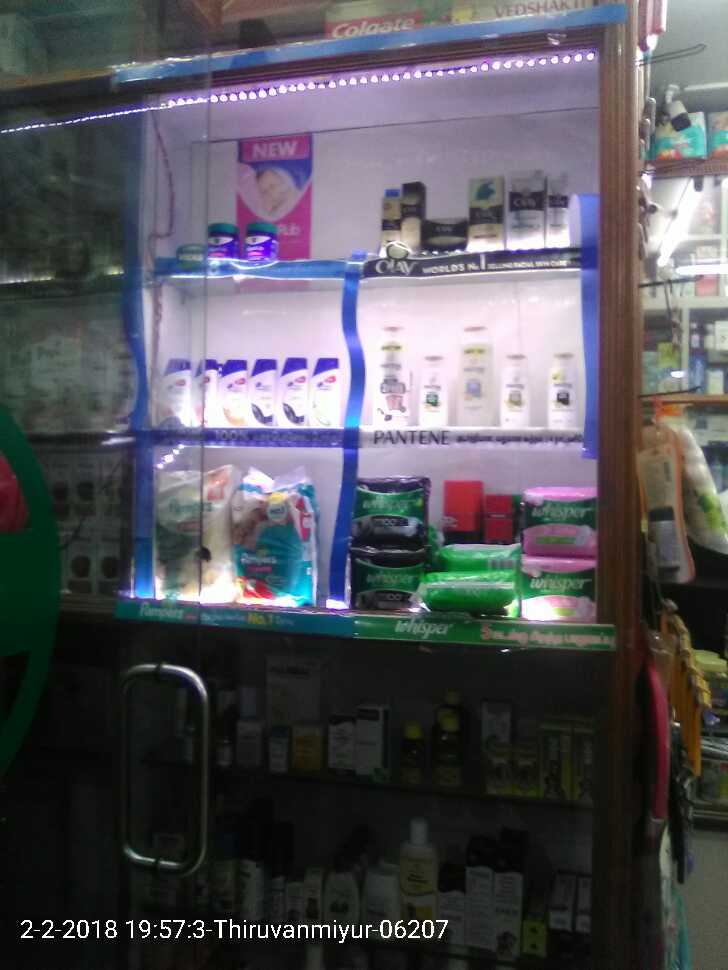vicks: (206, 218, 280, 261)
